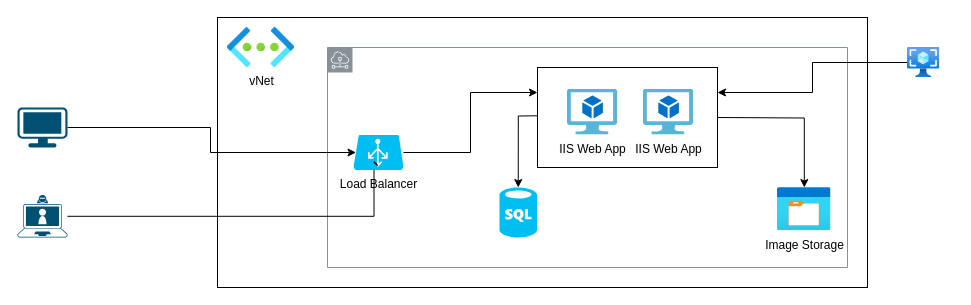
The diagram is 971 pixels wide and 305 high, and some of its shapes have lost their labels. Here are the shapes that lost their labels. From the top down, the box of each, then its label:
(907, 47, 939, 77): VM Images
(326, 46, 848, 268): Subnet
(499, 187, 536, 237): Database Catalog
